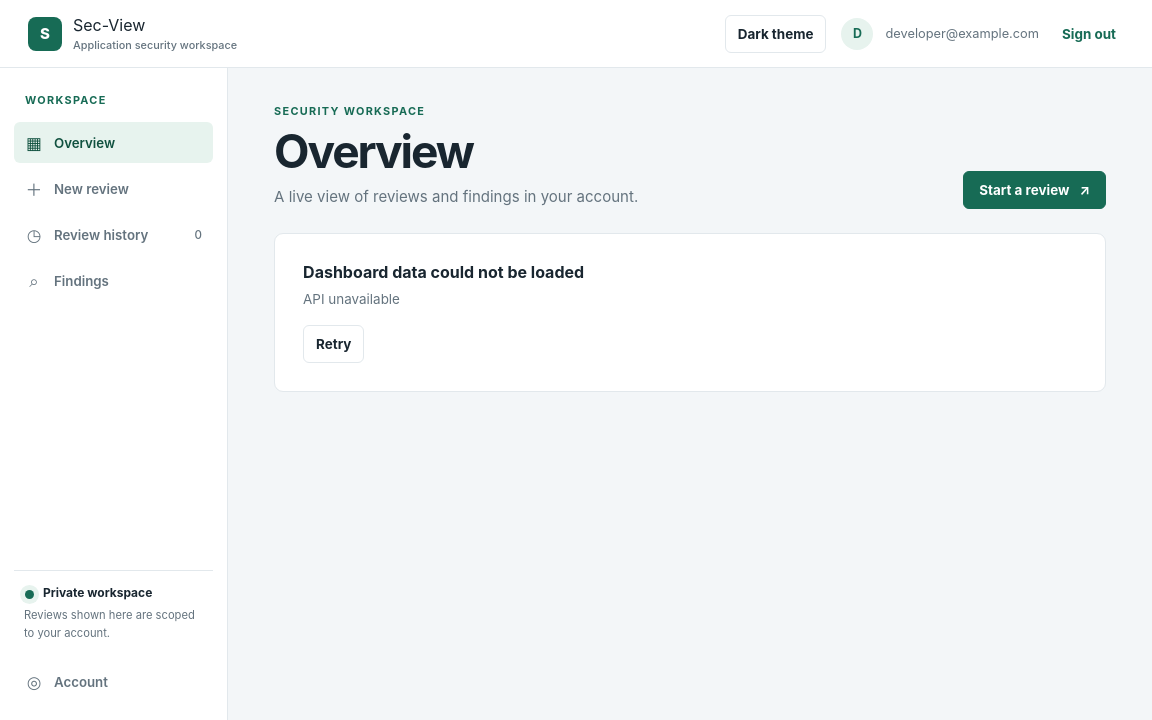
it: review workspace sections › offers a retry instead of presenting failed history as zero data
Check: the message shows "Dashboard data could not be loaded", box x1=303 y1=262 x2=584 y2=282
Check: the text "Total reviews" is not shown
Click the button "Retry".
click(334, 344)  # box x1=303 y1=325 x2=364 y2=363
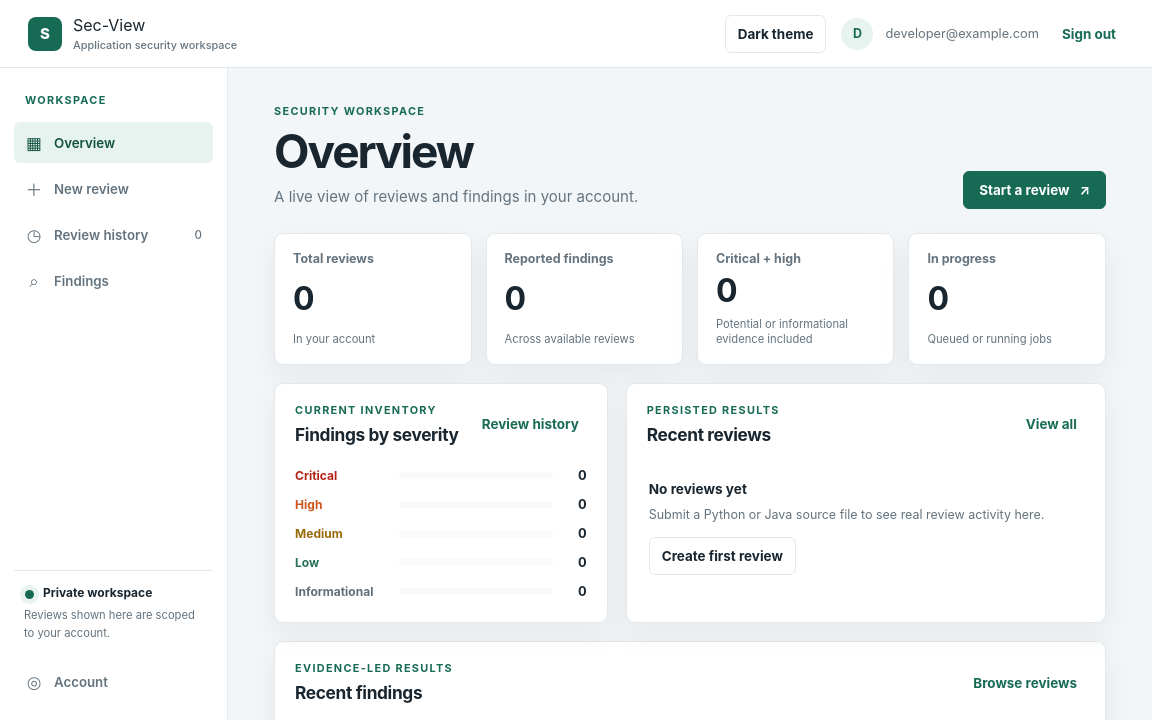
Check: the text "No reviews yet" is shown, box x1=649 y1=481 x2=747 y2=497
